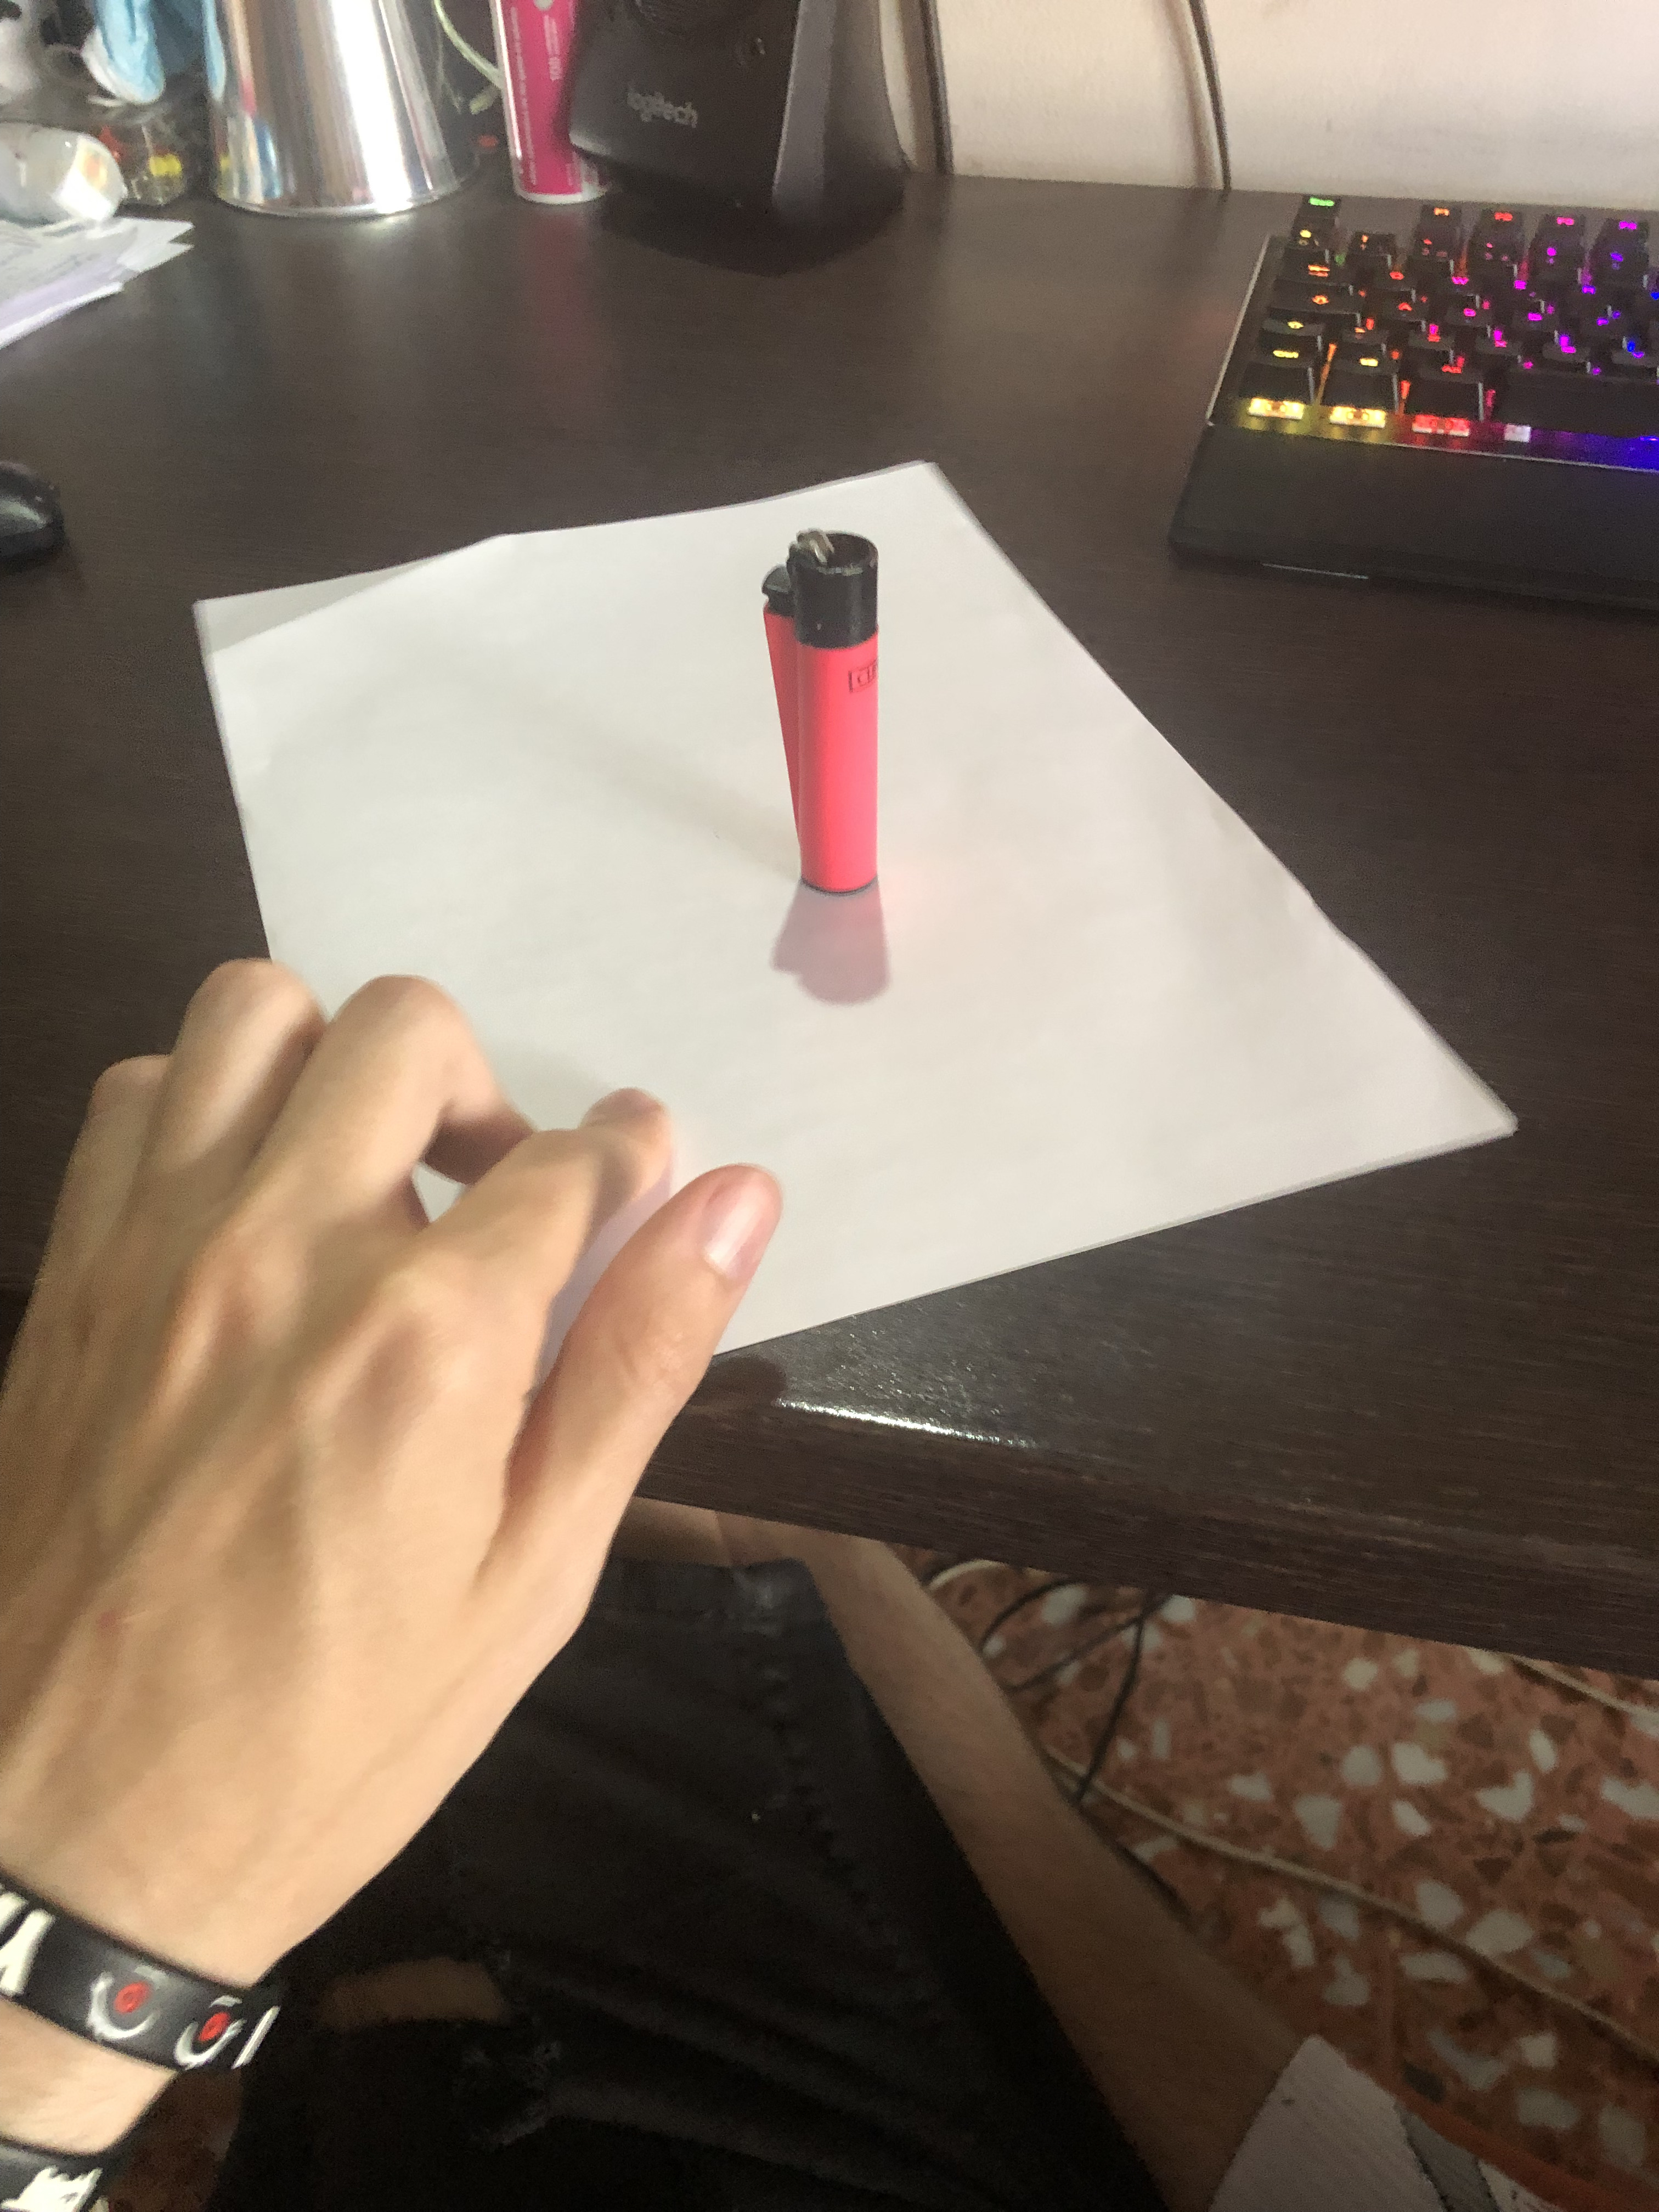Mechero: (734, 507, 915, 925)
